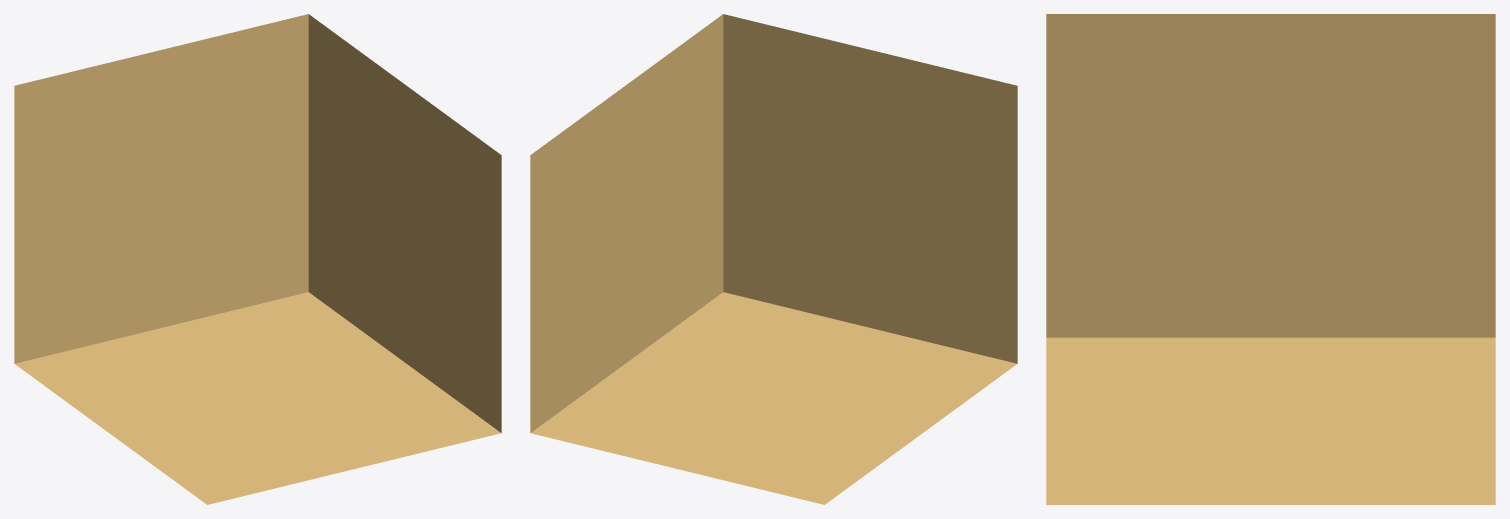
The model's file is decor-props-navagraha-grid-006.glb.
3 views of the same model, side by side, from view 1: azimuth 30°, elevation 25°; view 2: azimuth 150°, elevation 25°; view 3: azimuth 270°, elevation 25° (orthographic). The views are drawn at different scales.
Visible parts, largest first — view 1: Navagraha Grid Decor Props; view 2: Navagraha Grid Decor Props; view 3: Navagraha Grid Decor Props.
Part boxes in pixels (x1=…): Navagraha Grid Decor Props: x1=14, y1=14, x2=501, y2=504; Navagraha Grid Decor Props: x1=530, y1=14, x2=1017, y2=504; Navagraha Grid Decor Props: x1=1046, y1=14, x2=1495, y2=504.
Size of the model in its own units: 1.55 by 1.4 by 1.76.
